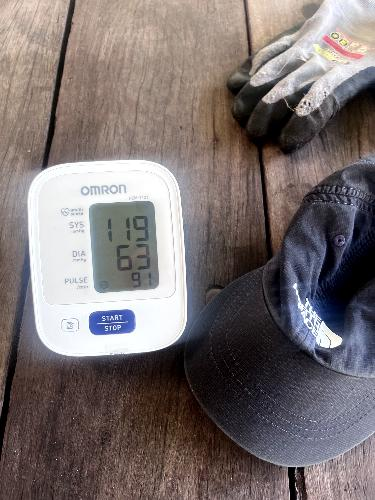bpm: (87, 200, 160, 294)
